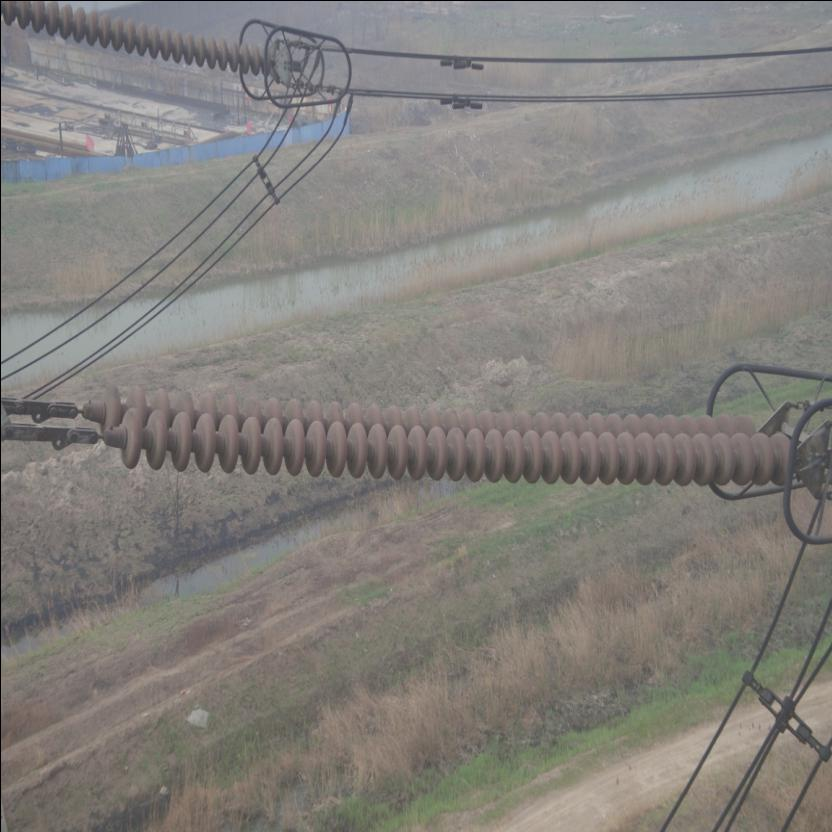insulator: (34, 376, 814, 492), (1, 1, 276, 78)
